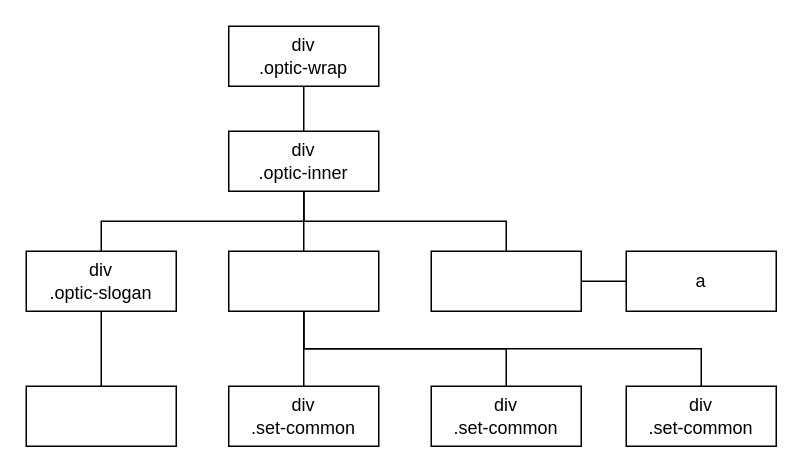
The diagram is 803 pixels wide and 473 high, and some of its shapes have lost their labels. Here are the shapes that lost their labels. From the top down, the centre of each, then its label:
At (303,280): "div .optic-set".
At (505,280): "div .btn-slogan".
At (100,415): "img".
